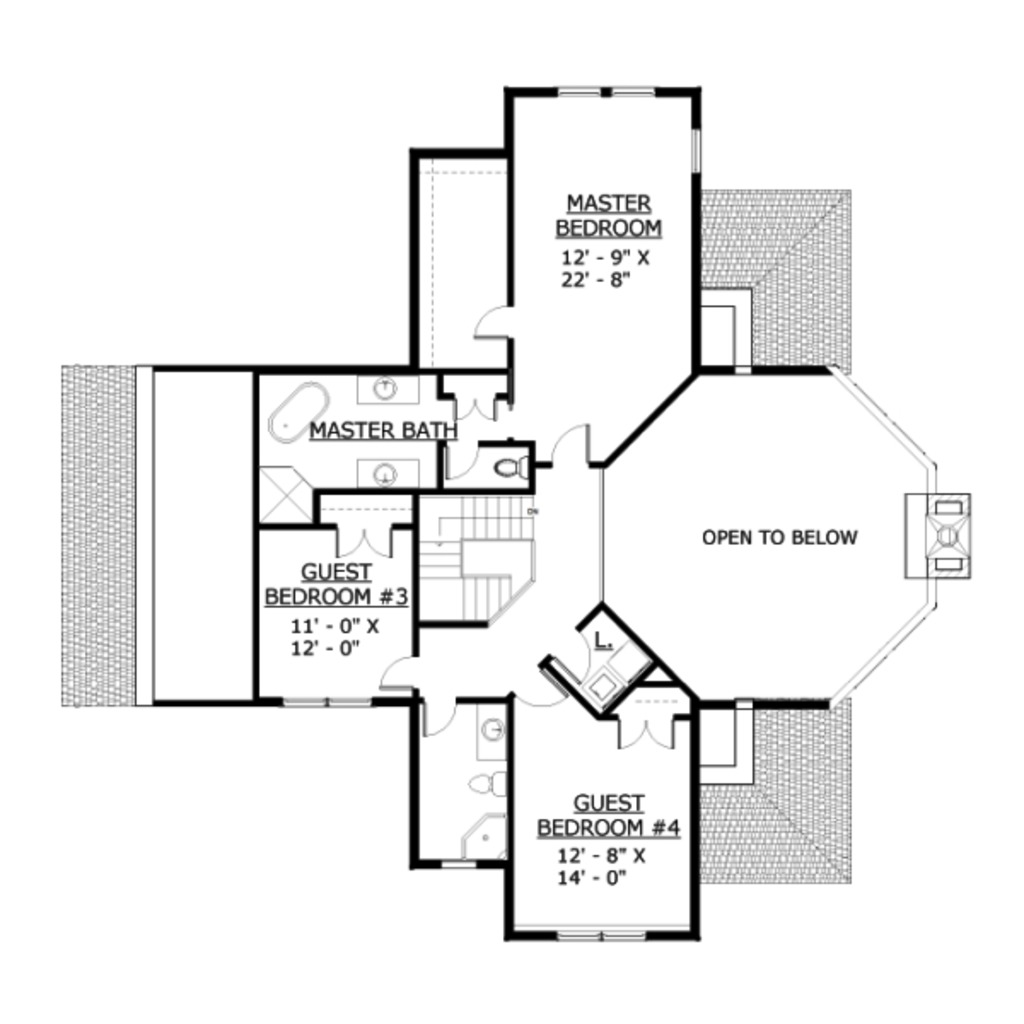door: (613, 712, 688, 762), (334, 524, 410, 562), (515, 666, 571, 716), (436, 433, 488, 485), (548, 625, 598, 679), (417, 695, 469, 743), (467, 301, 518, 349), (548, 427, 602, 466), (450, 389, 504, 422), (374, 655, 423, 690)
large_sink: (488, 439, 532, 489), (463, 765, 515, 806)
small_sink: (467, 700, 517, 776), (350, 454, 420, 492), (355, 373, 421, 403)
stairs: (421, 487, 540, 627)
tub: (256, 371, 339, 460)
window: (685, 119, 720, 189), (607, 78, 658, 109), (552, 81, 610, 103), (555, 928, 644, 938)
